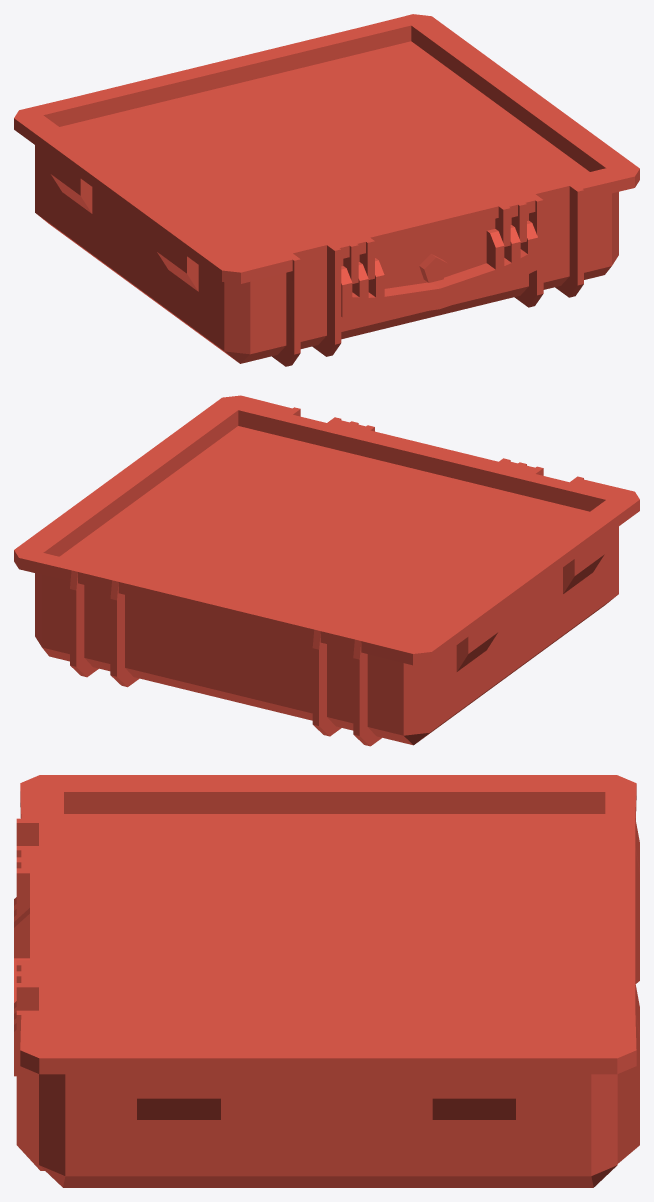
File: SM_Box_Equipment_Sturdy_Small_Bottom.fbx
3 views of the same model, one above another, from view 1: azimuth 30°, elevation 25°; view 2: azimuth 150°, elevation 25°; view 3: azimuth 270°, elevation 25° (orthographic). The views are drawn at different scales.
Visible parts, largest first — view 1: SM_Box_Equipment_Sturdy_Small_Bottom; view 2: SM_Box_Equipment_Sturdy_Small_Bottom; view 3: SM_Box_Equipment_Sturdy_Small_Bottom.
Part boxes in pixels (box(x1,y1,x2,y2)): SM_Box_Equipment_Sturdy_Small_Bottom: box(14, 14, 639, 366); SM_Box_Equipment_Sturdy_Small_Bottom: box(14, 395, 639, 746); SM_Box_Equipment_Sturdy_Small_Bottom: box(14, 775, 639, 1187).
Bounding box in the file's own units: 41.48 × 44.4 × 11.4.
